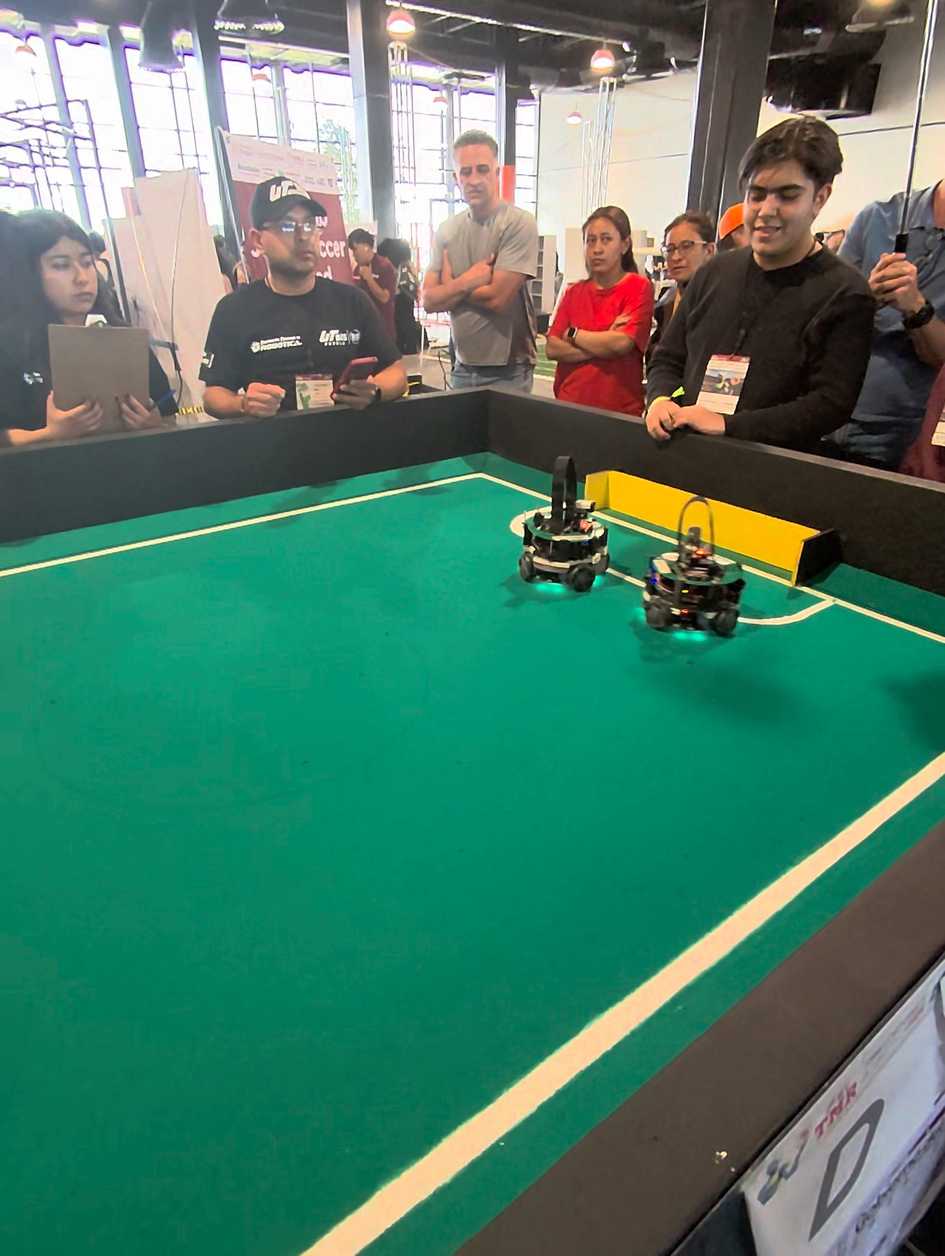Robot: (645, 484, 750, 647), (512, 445, 610, 600)
